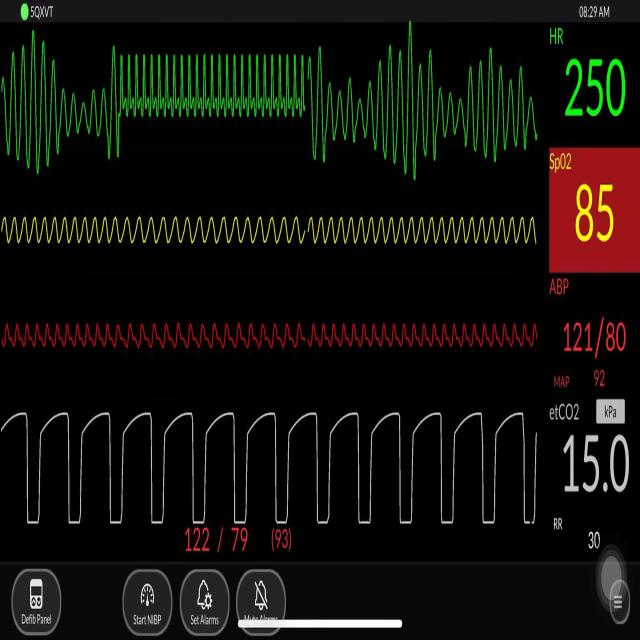danger: (311, 25, 536, 178), (1, 29, 107, 182), (114, 44, 307, 124)
